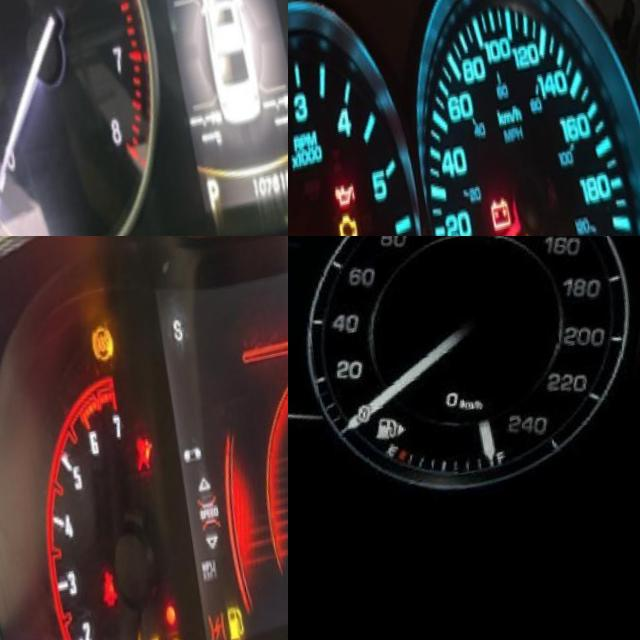Seat Belt: (85, 568, 110, 622)
